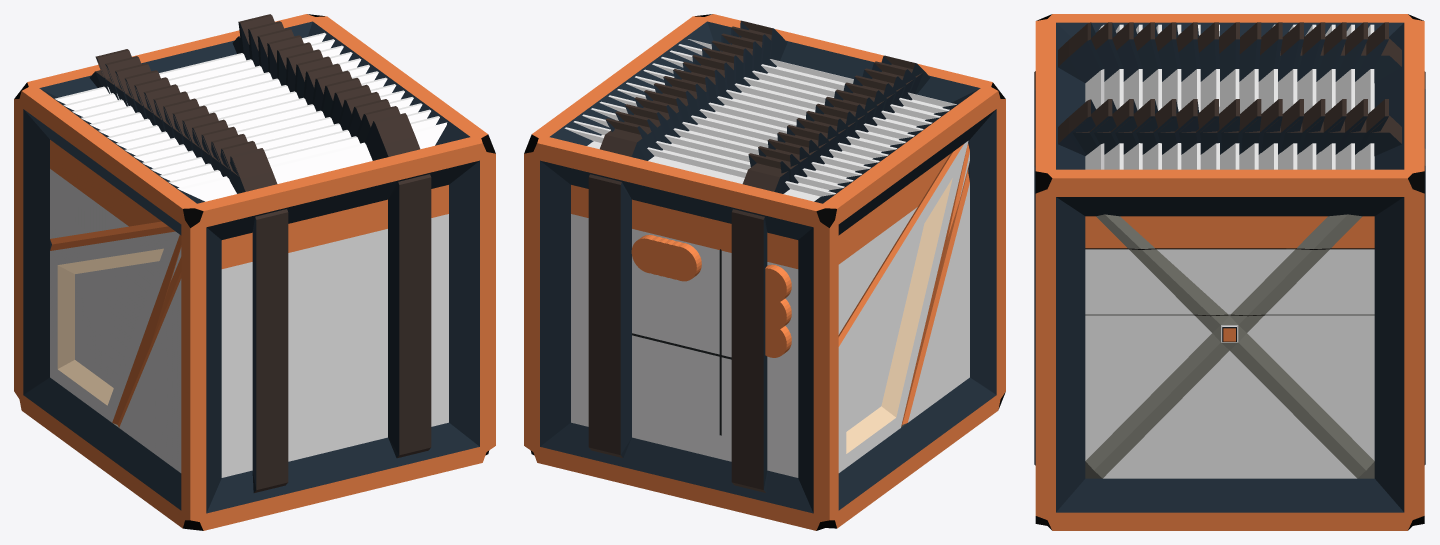
3 views of the same model, side by side, from view 1: azimuth 30°, elevation 25°; view 2: azimuth 150°, elevation 25°; view 3: azimuth 270°, elevation 25° (orthographic). The views are drawn at different scales.
Parts seen in each view (by area): view 1: Cube.001, Cube; view 2: Cube.001, Cube, Cylinder.001, Cylinder; view 3: Cube.001, Cube.
Boxes of the visible parts, x1=… form: Cube.001: x1=50, y1=14, x2=448, y2=492; Cube: x1=14, y1=14, x2=495, y2=530; Cube.001: x1=564, y1=20, x2=969, y2=492; Cube: x1=524, y1=14, x2=1005, y2=530; Cylinder.001: x1=631, y1=234, x2=701, y2=281; Cylinder: x1=765, y1=264, x2=791, y2=357; Cube.001: x1=1034, y1=22, x2=1425, y2=478; Cube: x1=1035, y1=14, x2=1424, y2=530.
Bounding box in the file's own units: 2 × 2.17 × 2.01.
Materials: 1 (1 with a texture image).
